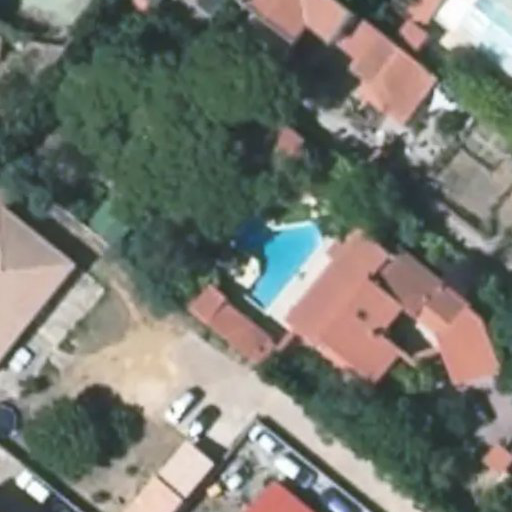pool: (216, 233, 295, 250)
